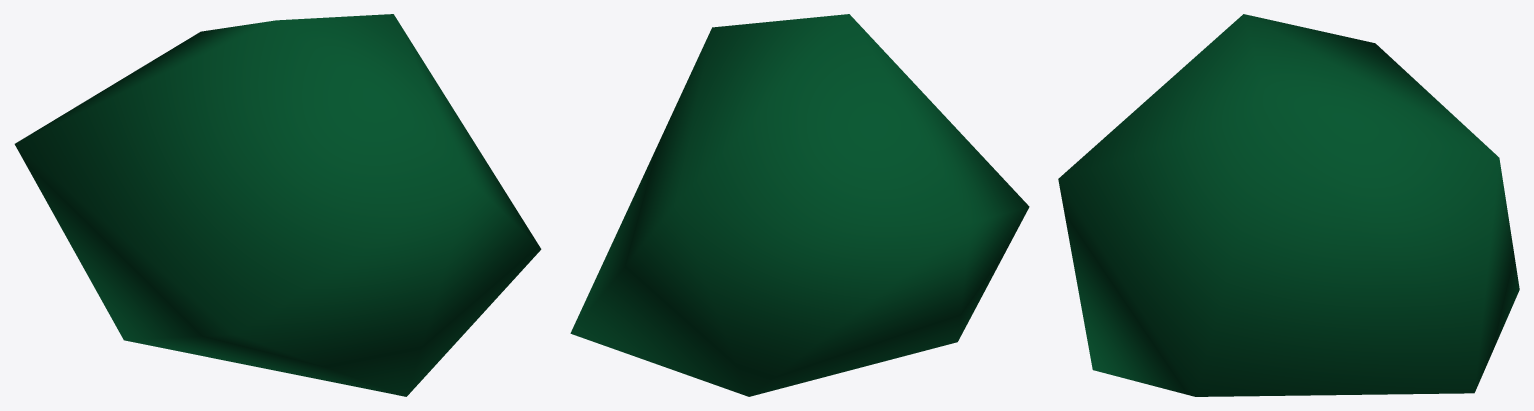
File: Bush.fbx
3 views of the same model, side by side, from view 1: azimuth 30°, elevation 25°; view 2: azimuth 150°, elevation 25°; view 3: azimuth 270°, elevation 25° (orthographic). The views are drawn at different scales.
Parts seen in each view (by area): view 1: Bush; view 2: Bush; view 3: Bush.
Part boxes in pixels (x1,y1,x2,y2): Bush: (14,14,541,396); Bush: (570,14,1029,396); Bush: (1058,14,1519,396).
Bounding box in the file's own units: 54.87 × 40.16 × 50.9.
